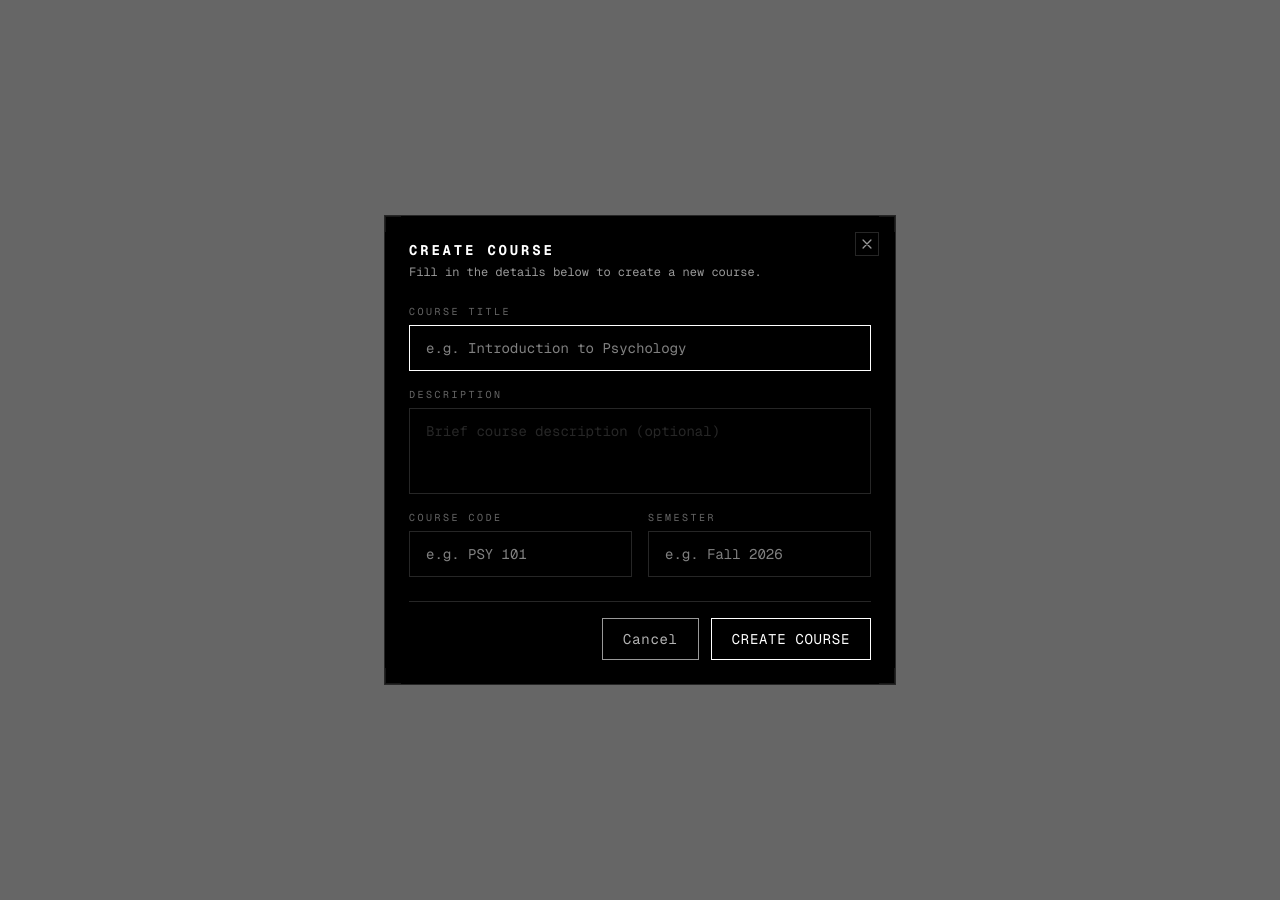
Test case: CreateCourseModal › shows loading state while submitting
Type "Psych 101" into the field labelled "Course Title" at (640, 348), box [409,325,871,371]
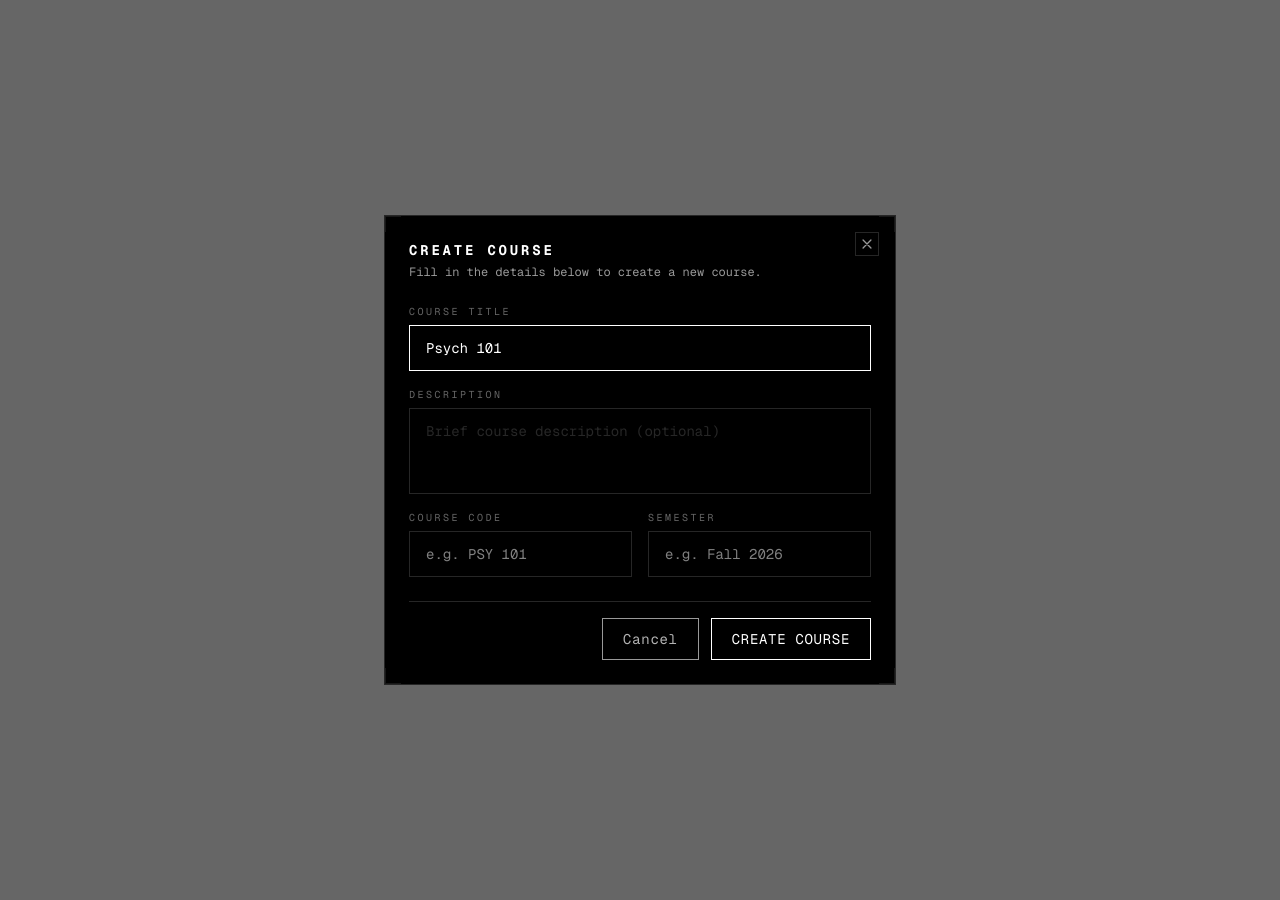
Type "PSY 101" into the field labelled "Course Code" at (520, 554), box [409,531,632,577]
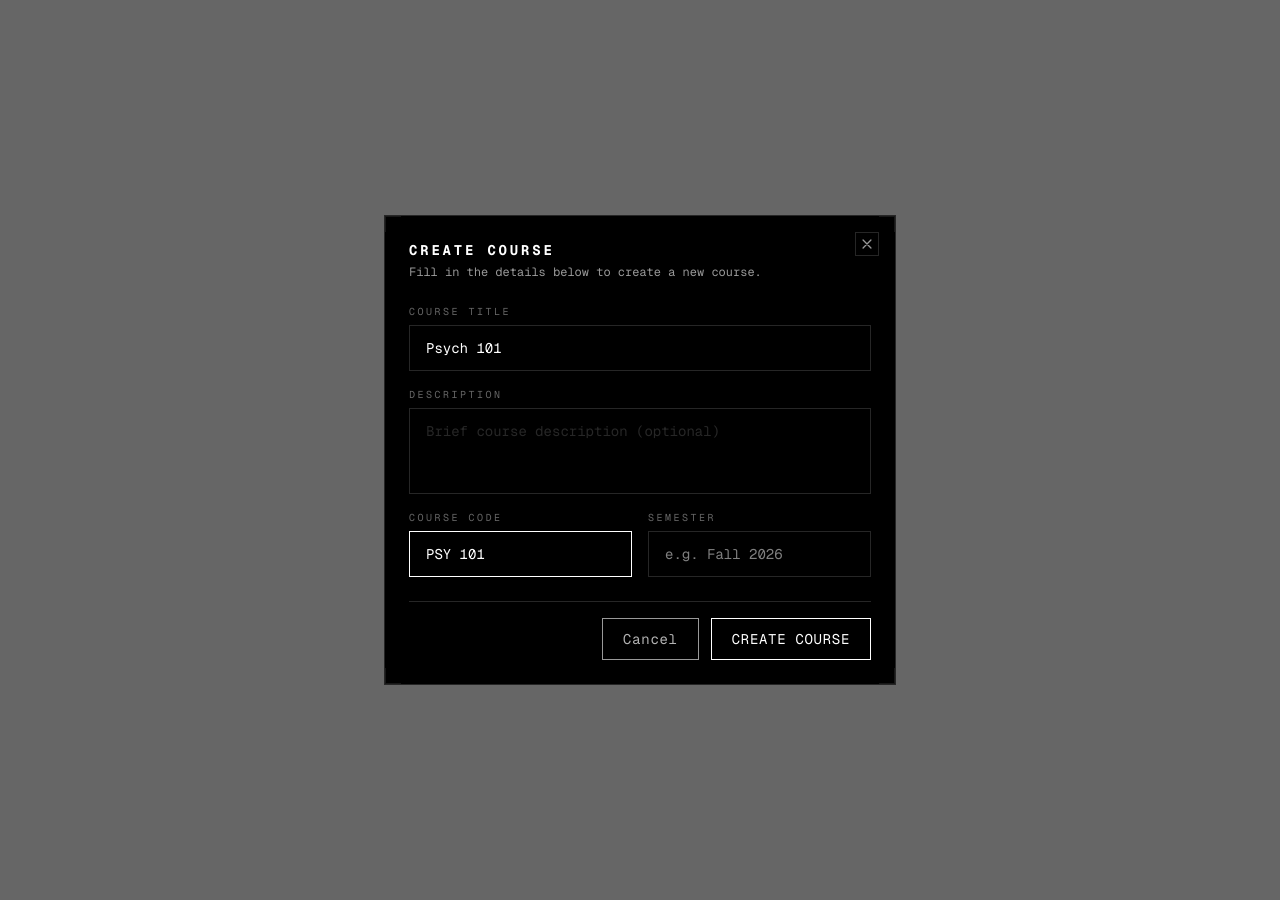
Type "Fall 2026" into the field labelled "Semester" at (760, 554), box [648,531,871,577]
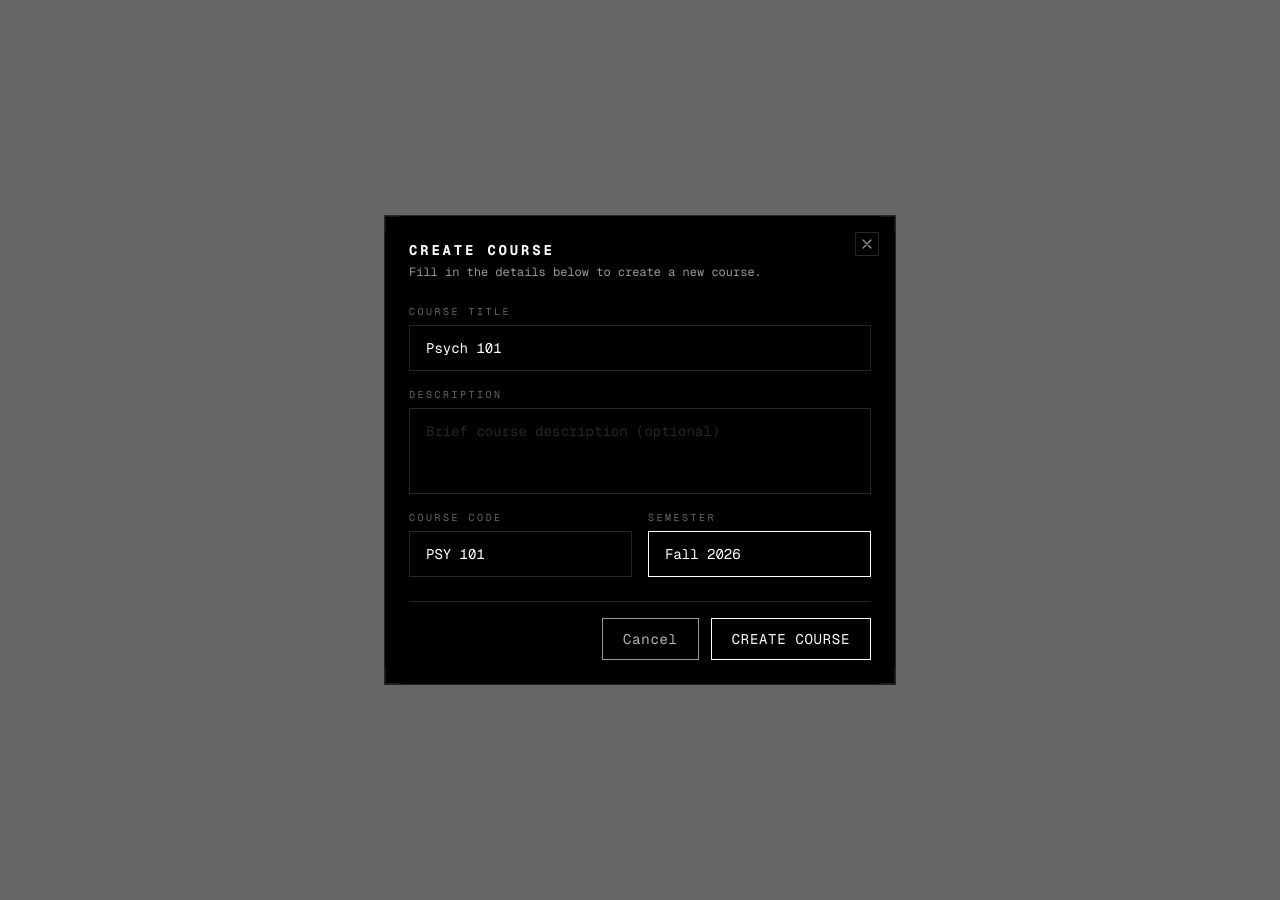
Click the button "CREATE COURSE" at (791, 639), box [711,618,871,660]
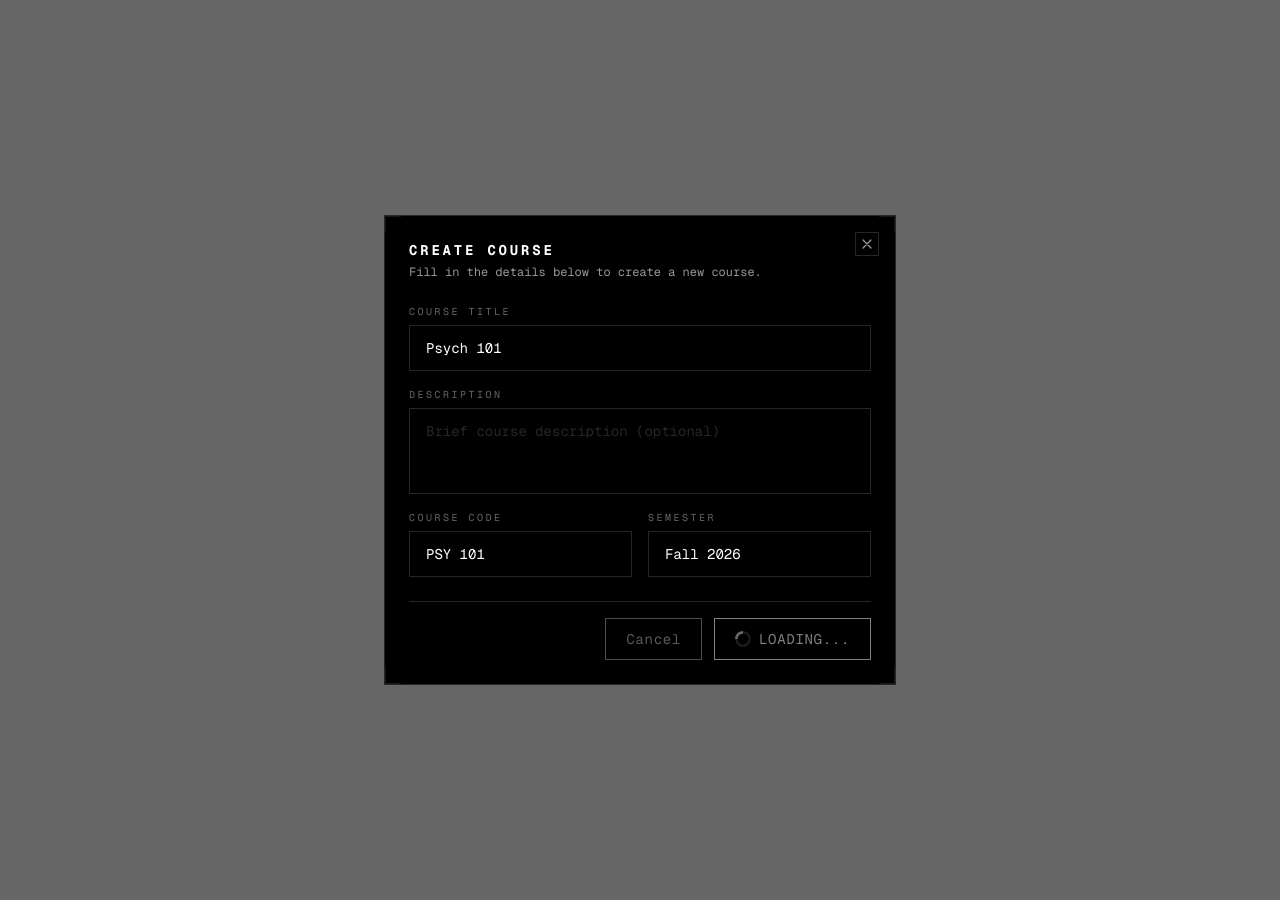
Check: the text "LOADING..." is shown, box [735,629,850,649]
